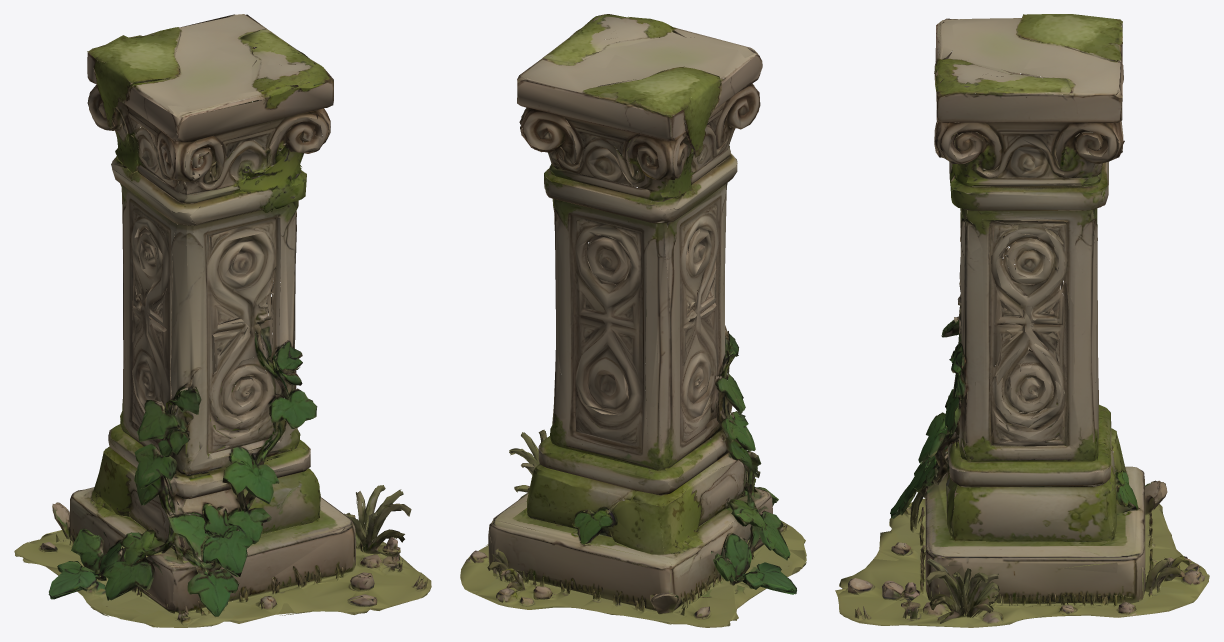
The model's file is AncientPillar.fbx.
3 views of the same model, side by side, from view 1: azimuth 30°, elevation 25°; view 2: azimuth 150°, elevation 25°; view 3: azimuth 270°, elevation 25° (orthographic).
Visible parts, largest first — view 1: node_0; view 2: node_0; view 3: node_0.
Part boxes in pixels (x1,y1,x2,y2): node_0: [14, 14, 431, 627]; node_0: [460, 14, 806, 627]; node_0: [835, 14, 1209, 627].
Size of the model in its own units: 65.6 by 100 by 66.76.
1 material, 1 textured.
